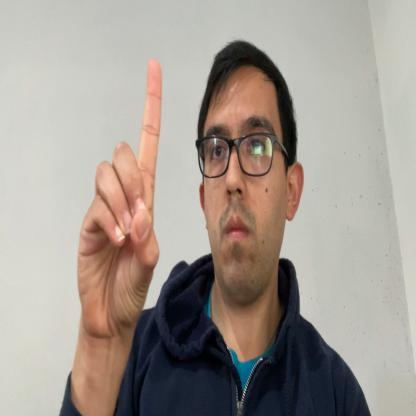D: (77, 58, 163, 336)
